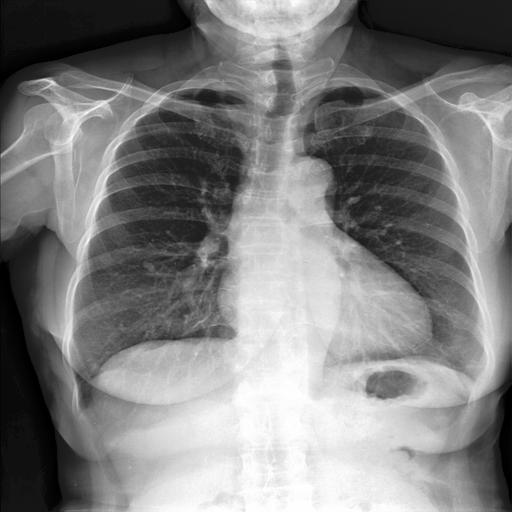Calcification: (459, 351, 496, 406), (69, 374, 101, 432), (464, 366, 487, 390)
Consolidation: (271, 154, 339, 226)
Pleural effusion: (459, 351, 496, 406), (68, 385, 95, 415), (464, 366, 487, 390)
Pulmonary fibrosis: (142, 260, 155, 273)
